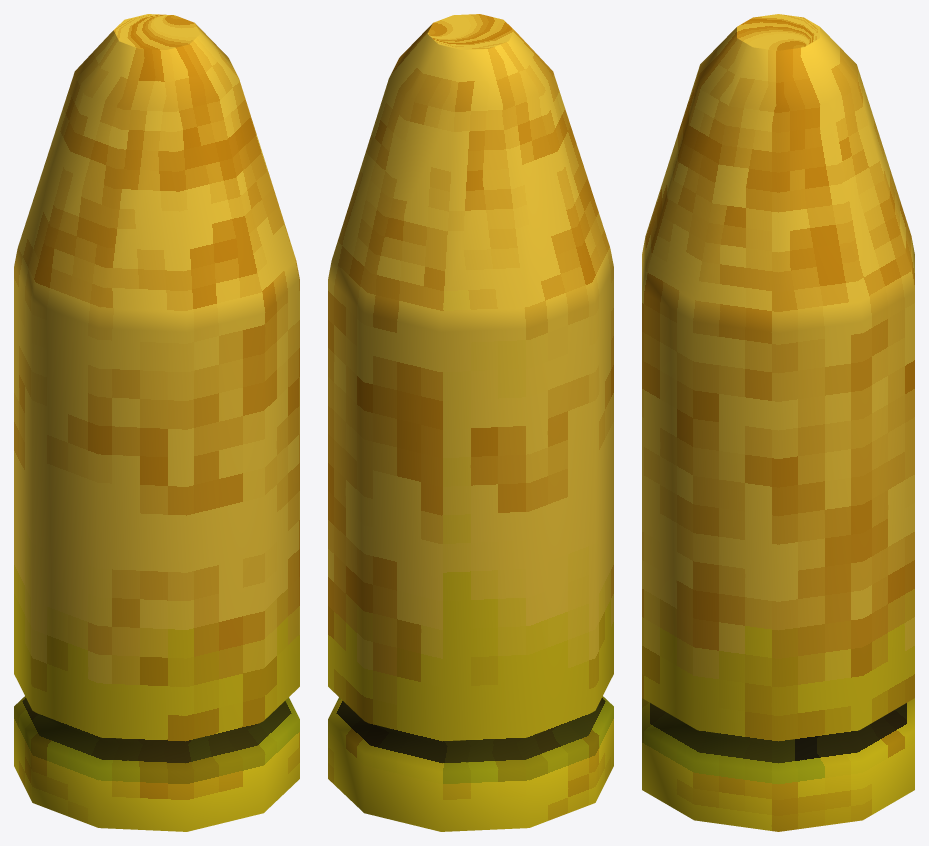
The model's file is bullet.fbx.
3 renders of one model, left to right at view 1: azimuth 30°, elevation 25°; view 2: azimuth 150°, elevation 25°; view 3: azimuth 270°, elevation 25°, orthographic.
Visible parts, largest first — view 1: pCylinder1; view 2: pCylinder1; view 3: pCylinder1.
Boxes of the visible parts, <box> form: pCylinder1: <box>14,14,299,831</box>; pCylinder1: <box>328,14,613,831</box>; pCylinder1: <box>642,14,914,831</box>.
Size of the model in its own units: 0.58 by 1.65 by 0.5517.
Materials: 1 (1 with a texture image).
